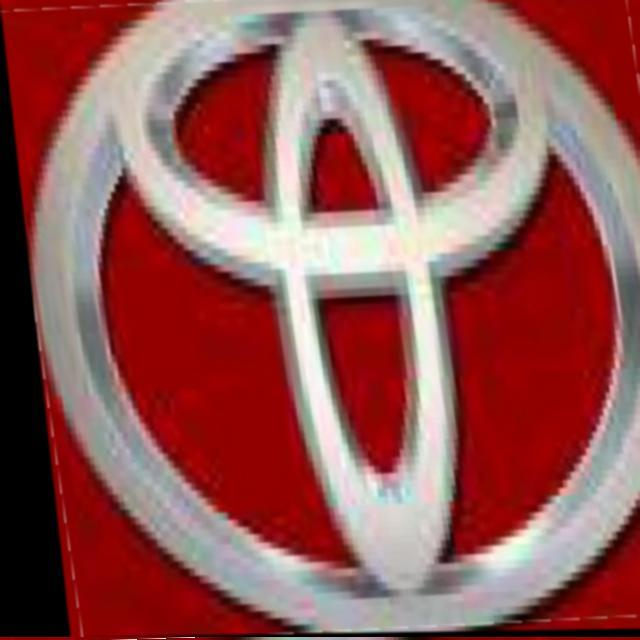Toyota: (0, 0, 640, 637)
